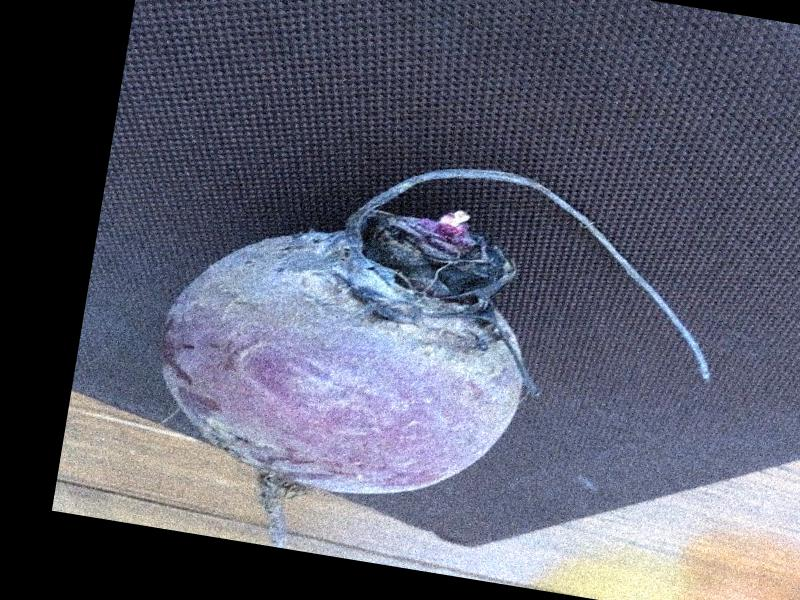Beet: (130, 121, 738, 600)
